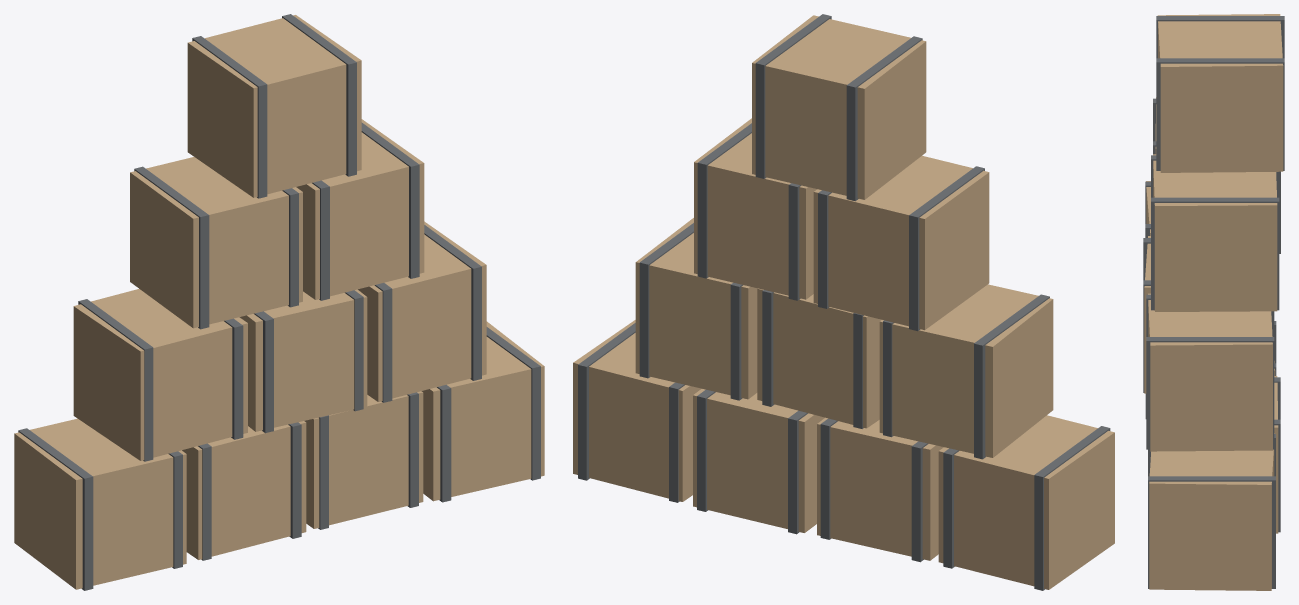
Rendered from crate_stack_02.glb.
The picture shows the model from 3 angles, left to right: view 1: azimuth 30°, elevation 25°; view 2: azimuth 150°, elevation 25°; view 3: azimuth 270°, elevation 25°; orthographic projection. The views are drawn at different scales.
Visible parts, largest first — view 1: crate9, crate4, crate0, crate7, crate8, crate6, crate3, crate5, crate1, crate2, brace0_-0.18, brace9_-0.18 (+18 smaller); view 2: crate9, crate0, crate7, crate4, crate6, crate3, crate8, crate2, crate1, crate5, brace9_-0.18, brace4_-0.18 (+18 smaller); view 3: crate9, crate8, crate3, crate6, brace8_0.18, brace6_0.18, brace9_0.18, brace3_0.18, brace9_-0.18, crate5, crate2, brace2_0.18 (+4 smaller).
Boxes of the visible parts, x1,y1,x2,y2 form: crate9: (187, 15, 361, 197); crate4: (73, 289, 247, 460); crate0: (14, 418, 186, 589); crate7: (130, 157, 302, 328); crate8: (296, 119, 424, 299); crate6: (358, 221, 486, 401); crate3: (421, 321, 544, 501); crate5: (239, 289, 367, 431); crate1: (182, 421, 306, 559); crate2: (304, 391, 423, 528); brace0_-0.18: (18, 428, 93, 590); brace9_-0.18: (192, 36, 267, 198); crate9: (752, 15, 926, 199); crate0: (938, 415, 1114, 589); crate7: (813, 155, 989, 330); crate4: (879, 284, 1053, 457); crate6: (635, 218, 757, 399); crate3: (573, 320, 701, 501); crate8: (694, 118, 816, 299); crate2: (693, 389, 824, 532); crate1: (817, 417, 943, 560); crate5: (757, 288, 881, 428); brace9_-0.18: (846, 36, 922, 201); brace4_-0.18: (974, 294, 1049, 459); crate9: (1157, 14, 1283, 172); crate8: (1153, 154, 1277, 311); crate3: (1149, 433, 1274, 590); crate6: (1148, 293, 1272, 451); brace8_0.18: (1151, 197, 1279, 310); brace6_0.18: (1146, 337, 1274, 449); brace9_0.18: (1156, 58, 1284, 170); brace3_0.18: (1148, 476, 1275, 588); brace9_-0.18: (1156, 16, 1284, 58); crate5: (1144, 236, 1150, 393); crate2: (1274, 376, 1278, 533); brace2_0.18: (1274, 419, 1280, 532).
Size of the model in its own units: 1.89 by 1.75 by 0.5065.
